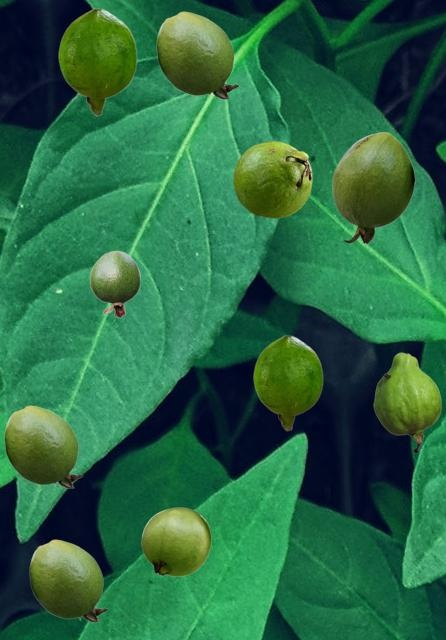guava: (332, 132, 414, 243), (58, 8, 136, 115), (156, 11, 238, 98), (373, 352, 440, 452), (253, 335, 322, 430), (29, 539, 107, 621), (4, 405, 82, 487), (233, 141, 311, 217), (141, 507, 210, 575), (89, 250, 140, 317)
